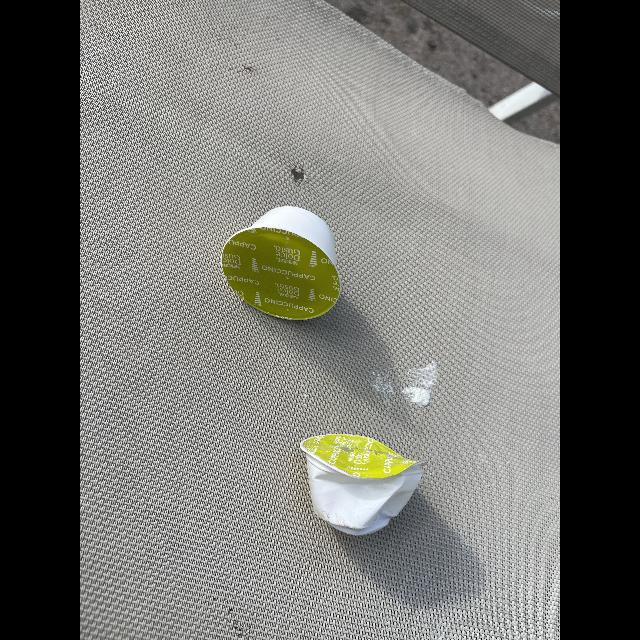damaged_capsule: (296, 423, 440, 545)
intact_capsule: (216, 202, 358, 331)
